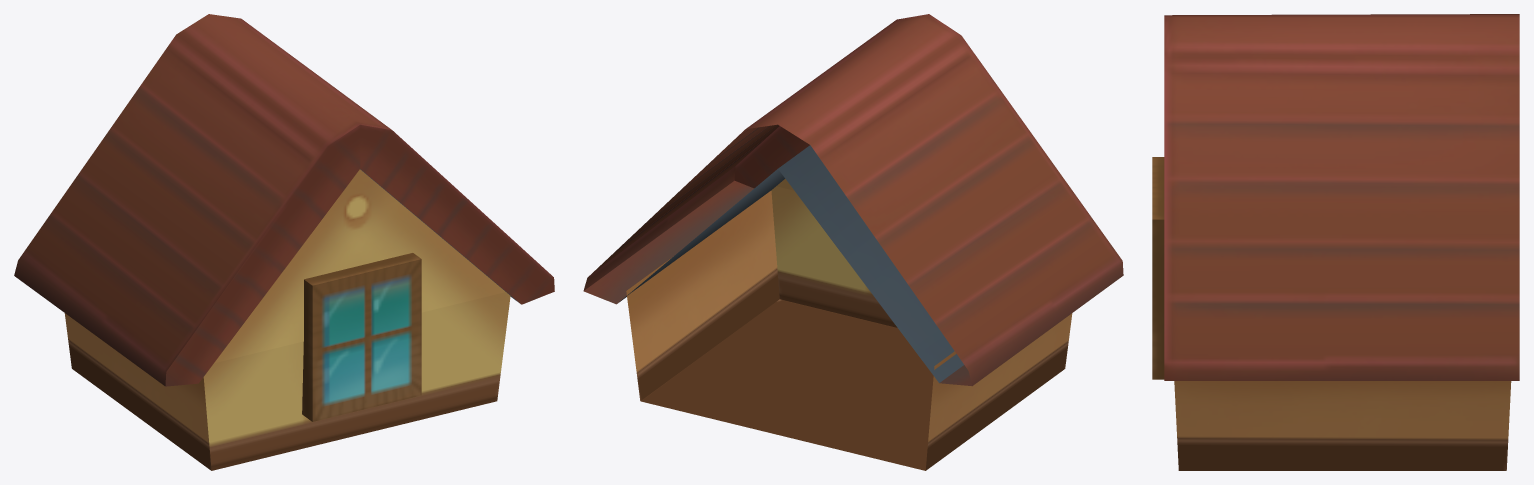
Rendered from mini_house_r.FBX.
3 renders of one model, left to right at view 1: azimuth 30°, elevation 25°; view 2: azimuth 150°, elevation 25°; view 3: azimuth 270°, elevation 25°, orthographic. The views are drawn at different scales.
Visible parts, largest first — view 1: Box079; view 2: Box079; view 3: Box079.
Part boxes in pixels (x1,y1,x2,y2): Box079: [14, 14, 554, 470]; Box079: [583, 14, 1123, 470]; Box079: [1152, 14, 1519, 470].
Bounding box in the file's own units: 11.6 × 8.99 × 8.07.
